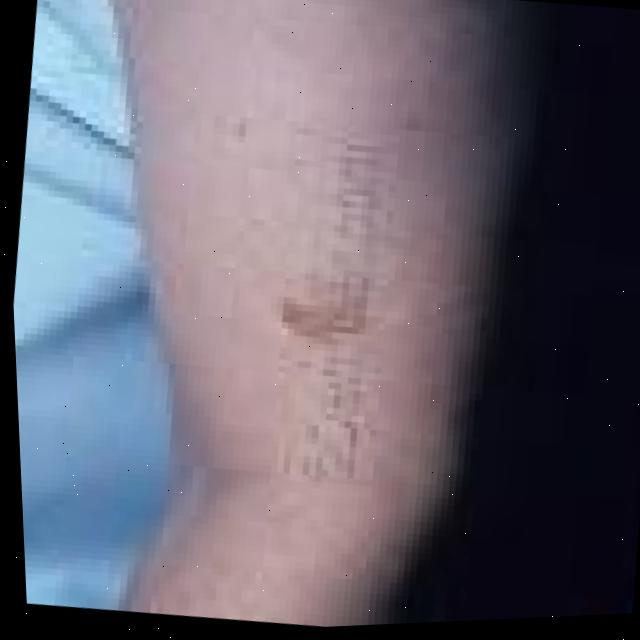Melasma: (282, 284, 342, 347)
